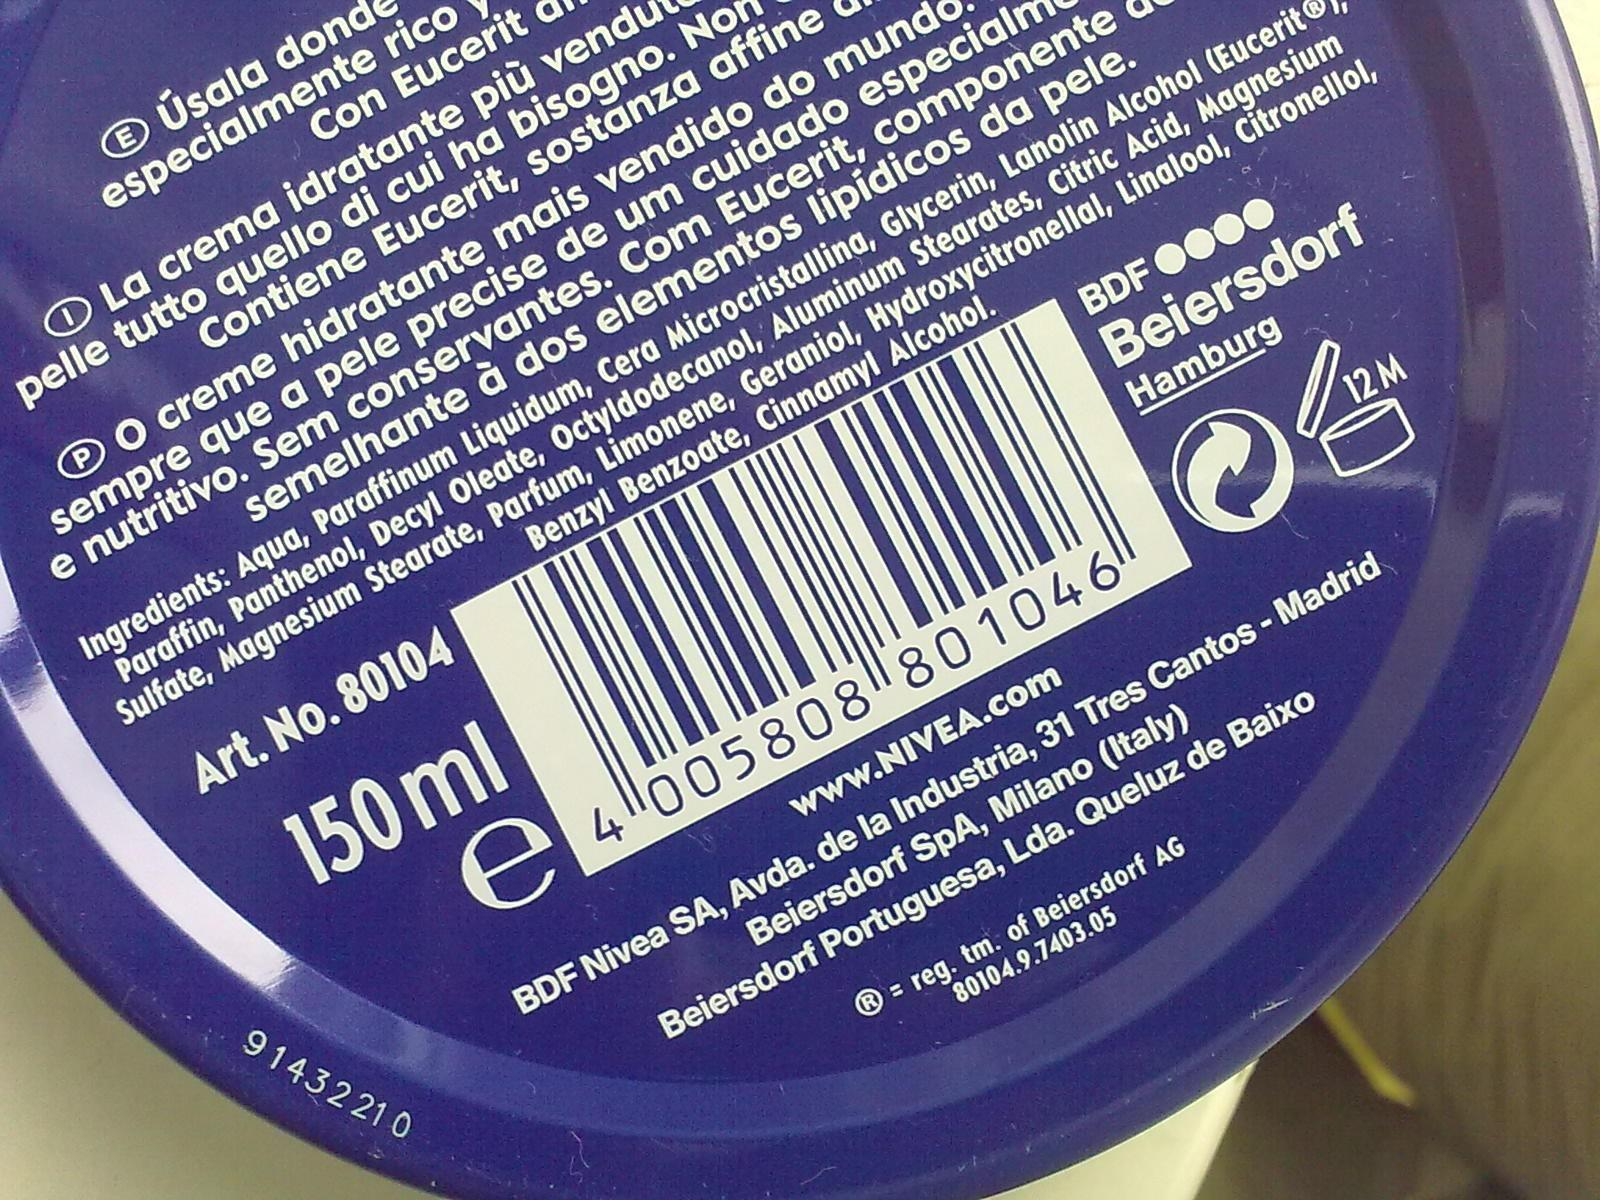Barcode: (445, 313, 1193, 882)
